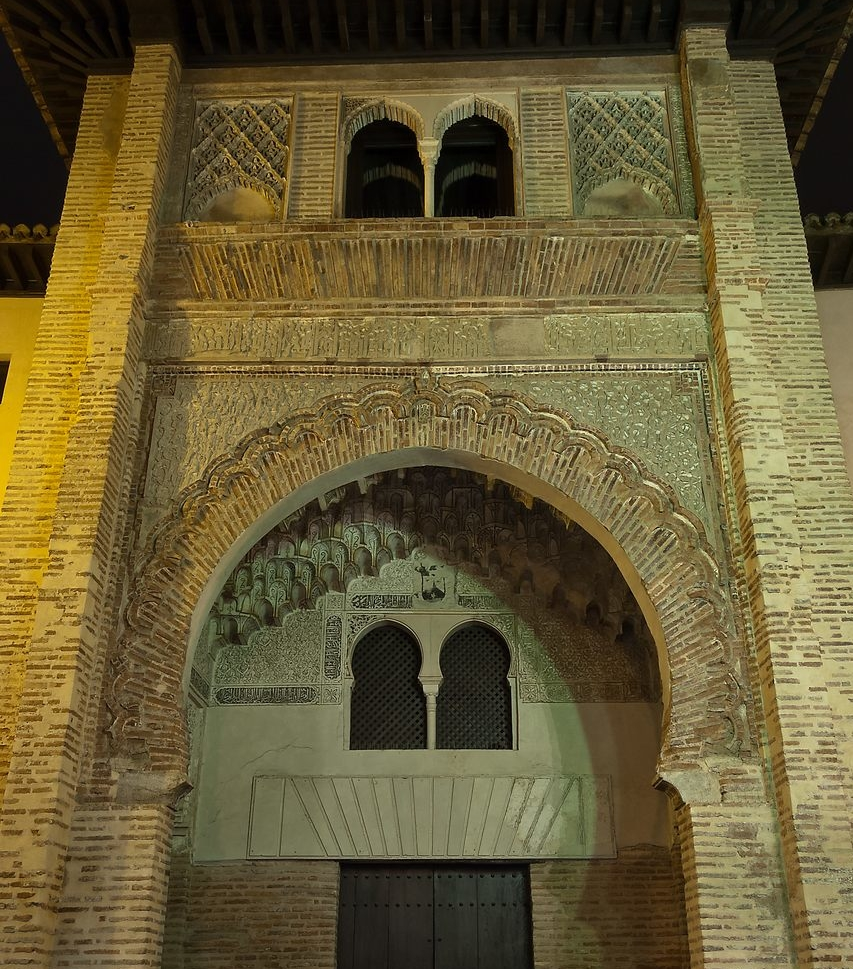arco-herradura: (137, 422, 713, 842), (339, 612, 431, 705), (433, 612, 518, 706)
dintel-adovelado: (177, 229, 683, 308), (287, 773, 581, 857)
